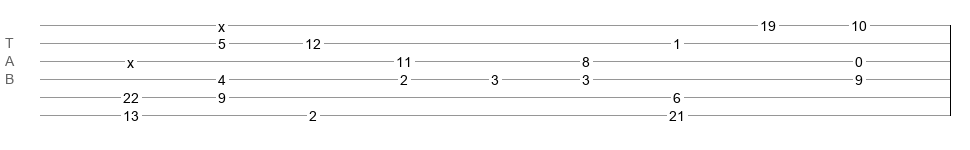0: (855, 54, 863, 64)
1: (673, 36, 681, 46)
10: (851, 18, 867, 28)
11: (396, 54, 412, 64)
12: (305, 36, 321, 46)
13: (123, 108, 139, 118)
19: (760, 18, 776, 28)
2: (309, 108, 317, 118), (400, 72, 408, 82)
21: (669, 108, 685, 118)
22: (123, 90, 139, 100)
3: (491, 72, 499, 82), (582, 72, 590, 82)
4: (218, 72, 226, 82)
5: (218, 36, 226, 46)
6: (673, 90, 681, 100)
8: (582, 54, 590, 64)
9: (218, 90, 226, 100), (855, 72, 863, 82)
x: (127, 55, 134, 63), (218, 19, 225, 27)
